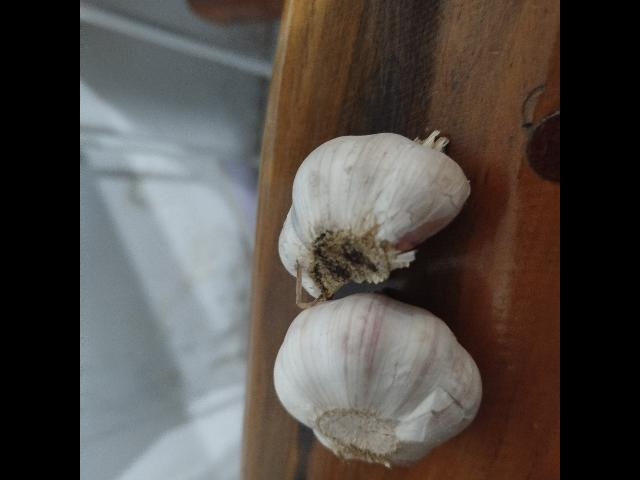garlic: (272, 291, 483, 467), (277, 128, 471, 308)
